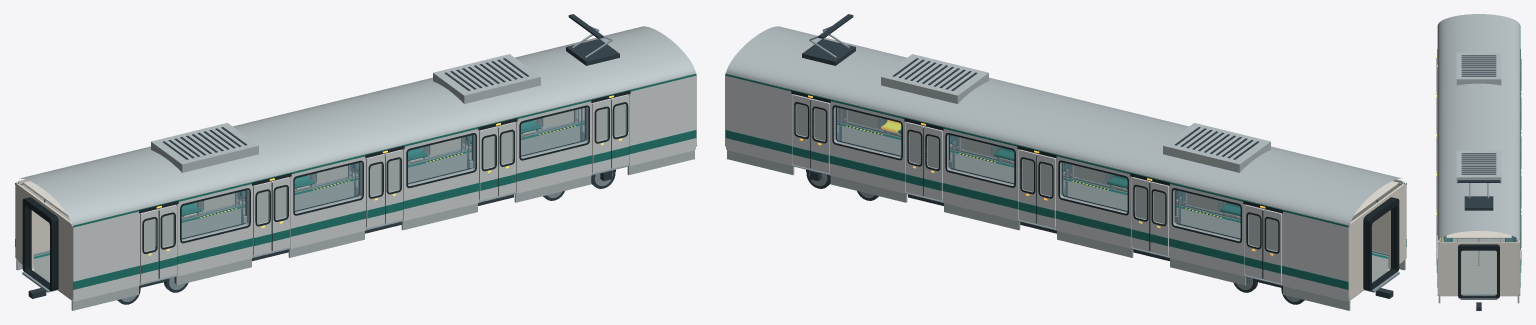
Rendered from metro-trailer-car.glb.
3 renders of one model, left to right at view 1: azimuth 30°, elevation 25°; view 2: azimuth 150°, elevation 25°; view 3: azimuth 270°, elevation 25°, orthographic. The views are drawn at different scales.
Visible parts, largest first — view 1: metro-trailer-car_metro.roof.satin, metro-trailer-car_metro.shell.silver, metro-trailer-car_metro.glass.window, metro-trailer-car_metro.interior.ivory, metro-trailer-car_metro.line.jade, metro-trailer-car_metro.rubber.graphite, metro-trailer-car_metro.floor.speckle, metro-trailer-car_metro.chassis.dark, metro-trailer-car_metro.steel.brushed, metro-trailer-car_metro.line.seat, door_right_0_a_metro.shell.silver, door_right_2_a_metro.shell.silver (+8 smaller); view 2: metro-trailer-car_metro.roof.satin, metro-trailer-car_metro.shell.silver, metro-trailer-car_metro.glass.window, metro-trailer-car_metro.interior.ivory, metro-trailer-car_metro.line.jade, metro-trailer-car_metro.rubber.graphite, metro-trailer-car_metro.floor.speckle, metro-trailer-car_metro.chassis.dark, metro-trailer-car_metro.steel.brushed, door_left_4_a_metro.shell.silver, door_left_4_b_metro.shell.silver, door_left_3_a_metro.shell.silver (+8 smaller); view 3: metro-trailer-car_metro.roof.satin, metro-trailer-car_metro.interior.ivory, metro-trailer-car_metro.chassis.dark, metro-trailer-car_metro.floor.speckle, metro-trailer-car_metro.rubber.graphite, metro-trailer-car_metro.shell.silver, metro-trailer-car_metro.line.jade, metro-trailer-car_metro.steel.brushed, metro-trailer-car_metro.line.seat, metro-trailer-car_metro.glass.window, door_left_4_b_metro.rubber.graphite.
Boxes of the visible parts, left/top/right/bottom form: metro-trailer-car_metro.roof.satin: left=16, top=26, right=695, bottom=310; metro-trailer-car_metro.shell.silver: left=15, top=73, right=695, bottom=301; metro-trailer-car_metro.glass.window: left=182, top=107, right=588, bottom=241; metro-trailer-car_metro.interior.ivory: left=16, top=71, right=696, bottom=299; metro-trailer-car_metro.line.jade: left=15, top=74, right=696, bottom=289; metro-trailer-car_metro.rubber.graphite: left=22, top=90, right=630, bottom=291; metro-trailer-car_metro.floor.speckle: left=33, top=121, right=584, bottom=281; metro-trailer-car_metro.chassis.dark: left=28, top=14, right=619, bottom=304; metro-trailer-car_metro.steel.brushed: left=22, top=26, right=630, bottom=301; metro-trailer-car_metro.line.seat: left=181, top=120, right=540, bottom=216; door_right_0_a_metro.shell.silver: left=140, top=209, right=158, bottom=283; door_right_2_a_metro.shell.silver: left=366, top=154, right=384, bottom=228; metro-trailer-car_metro.roof.satin: left=726, top=26, right=1405, bottom=310; metro-trailer-car_metro.shell.silver: left=726, top=73, right=1406, bottom=301; metro-trailer-car_metro.glass.window: left=834, top=107, right=1240, bottom=240; metro-trailer-car_metro.interior.ivory: left=725, top=71, right=1405, bottom=299; metro-trailer-car_metro.line.jade: left=725, top=74, right=1406, bottom=289; metro-trailer-car_metro.rubber.graphite: left=791, top=90, right=1399, bottom=291; metro-trailer-car_metro.floor.speckle: left=837, top=121, right=1388, bottom=281; metro-trailer-car_metro.chassis.dark: left=802, top=14, right=1393, bottom=304; metro-trailer-car_metro.steel.brushed: left=791, top=26, right=1399, bottom=301; door_left_4_a_metro.shell.silver: left=811, top=99, right=829, bottom=172; door_left_4_b_metro.shell.silver: left=792, top=94, right=811, bottom=168; door_left_3_a_metro.shell.silver: left=924, top=126, right=942, bottom=200; metro-trailer-car_metro.roof.satin: left=1438, top=14, right=1519, bottom=303; metro-trailer-car_metro.interior.ivory: left=1439, top=231, right=1518, bottom=296; metro-trailer-car_metro.chassis.dark: left=1457, top=55, right=1500, bottom=310; metro-trailer-car_metro.floor.speckle: left=1453, top=238, right=1504, bottom=294; metro-trailer-car_metro.rubber.graphite: left=1437, top=49, right=1520, bottom=298; metro-trailer-car_metro.shell.silver: left=1437, top=25, right=1520, bottom=295; metro-trailer-car_metro.line.jade: left=1437, top=26, right=1520, bottom=287; metro-trailer-car_metro.steel.brushed: left=1436, top=183, right=1521, bottom=299; metro-trailer-car_metro.line.seat: left=1443, top=236, right=1515, bottom=241; metro-trailer-car_metro.glass.window: left=1439, top=236, right=1518, bottom=241; door_left_4_b_metro.rubber.graphite: left=1520, top=216, right=1521, bottom=264.
Size of the model in its own units: 23.3 by 5.26 by 3.71.
Materials: 15 (1 with a texture image).
